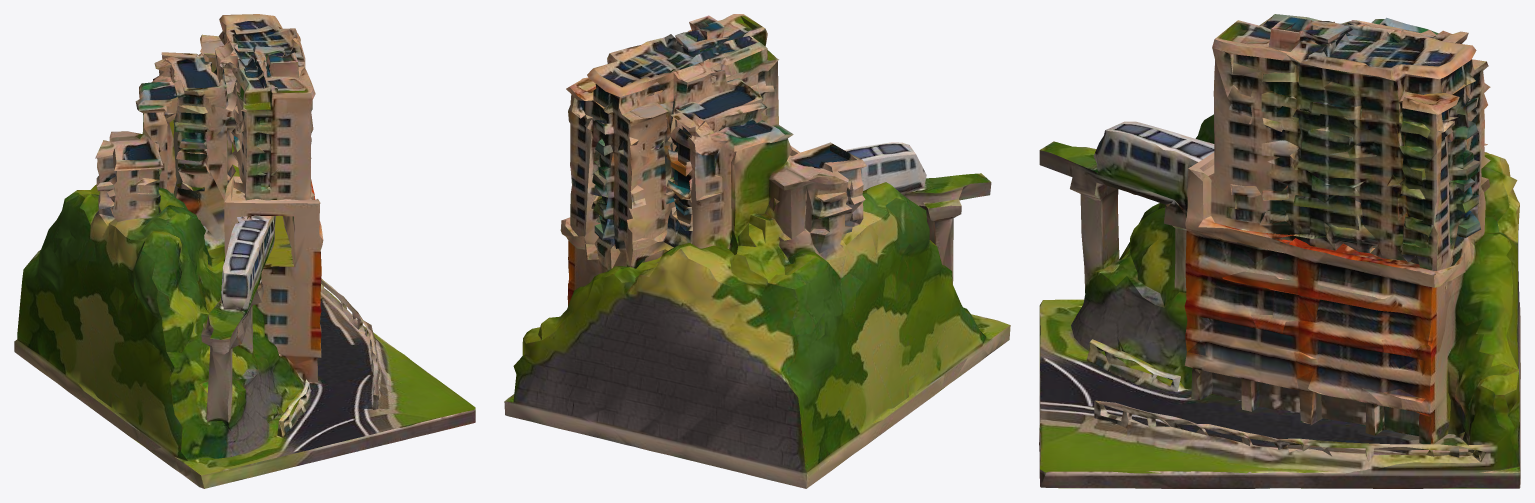
The model's file is liziba-station.glb.
The picture shows the model from 3 angles, left to right: view 1: azimuth 30°, elevation 25°; view 2: azimuth 150°, elevation 25°; view 3: azimuth 270°, elevation 25°; orthographic projection. The views are drawn at different scales.
Parts seen in each view (by area): view 1: logan-textured.obj; view 2: logan-textured.obj; view 3: logan-textured.obj.
Part boxes in pixels (x1,y1,x2,y2): logan-textured.obj: [14, 14, 475, 488]; logan-textured.obj: [504, 14, 1010, 488]; logan-textured.obj: [1039, 14, 1520, 488].
Bounding box in the file's own units: 0.8496 × 0.9263 × 1.
1 material, 1 textured.
